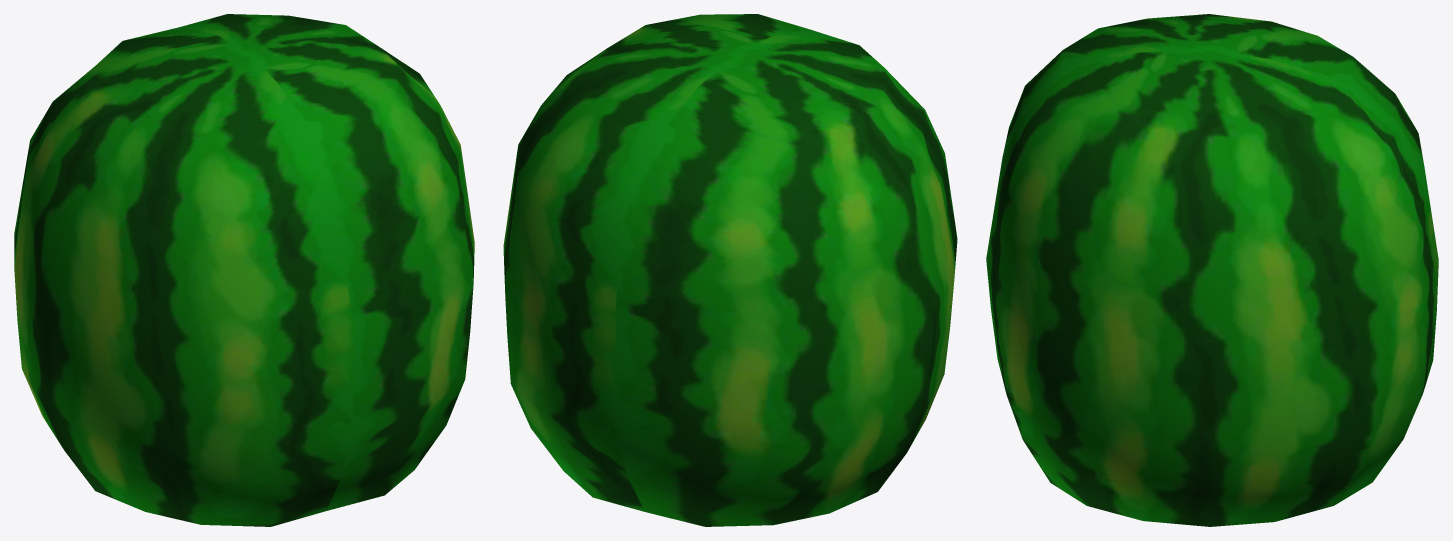
The model's file is watermelon.glb.
The picture shows the model from 3 angles, left to right: view 1: azimuth 30°, elevation 25°; view 2: azimuth 150°, elevation 25°; view 3: azimuth 270°, elevation 25°; orthographic projection.
Visible parts, largest first — view 1: Watermelon Rudy_0; view 2: Watermelon Rudy_0; view 3: Watermelon Rudy_0.
Boxes of the visible parts, box(x1,y1,x2,y2) form: Watermelon Rudy_0: box(14, 14, 474, 526); Watermelon Rudy_0: box(503, 14, 957, 526); Watermelon Rudy_0: box(986, 14, 1438, 526).
Bounding box in the file's own units: 0.6856 × 0.6997 × 0.6511.
Materials: 1 (1 with a texture image).
